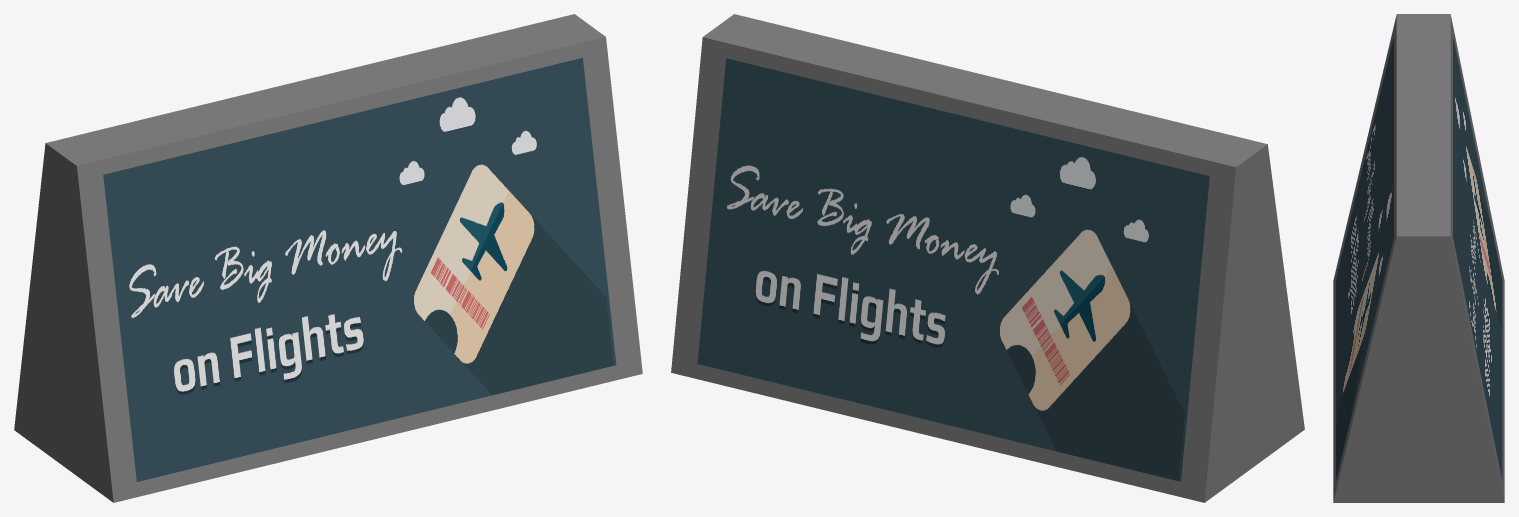
Rendered from Screen.fbx.
3 views of the same model, side by side, from view 1: azimuth 30°, elevation 25°; view 2: azimuth 150°, elevation 25°; view 3: azimuth 270°, elevation 25° (orthographic). The views are drawn at different scales.
Parts seen in each view (by area): view 1: Cube; view 2: Cube; view 3: Cube.
Part boxes in pixels (x1,y1,x2,y2): Cube: [14, 14, 642, 502]; Cube: [671, 14, 1304, 502]; Cube: [1333, 14, 1504, 502].
Bounding box in the file's own units: 614 × 344 × 200.
